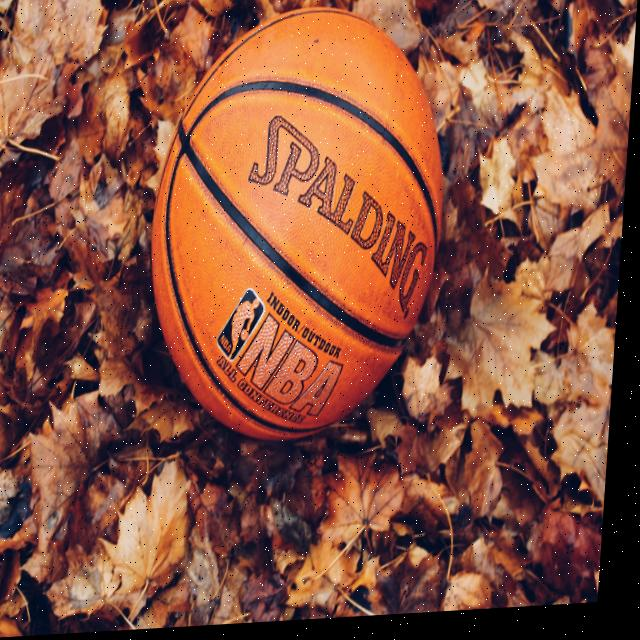Basketball: (138, 0, 457, 449)
